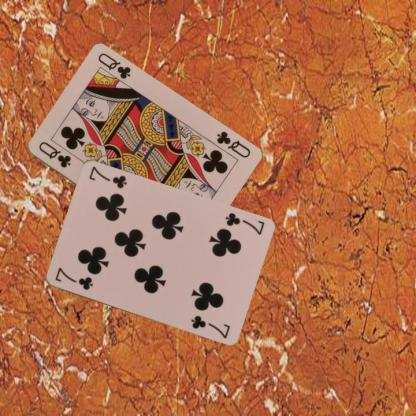7c: (52, 264, 94, 292), (222, 210, 265, 237)
Qc: (214, 128, 251, 160), (35, 139, 72, 169)
